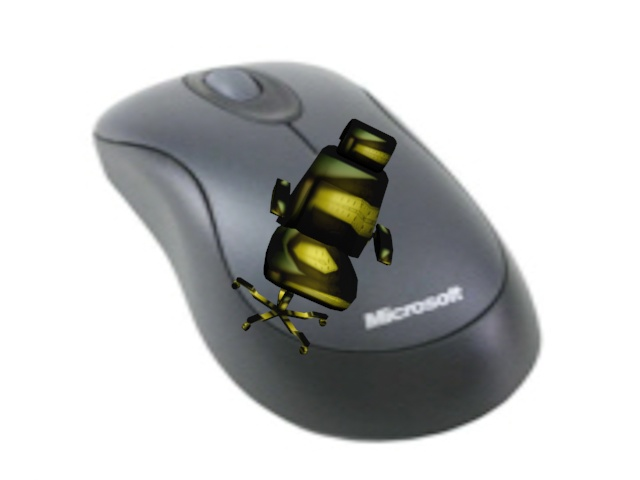desk_chair: (225, 113, 400, 368)
